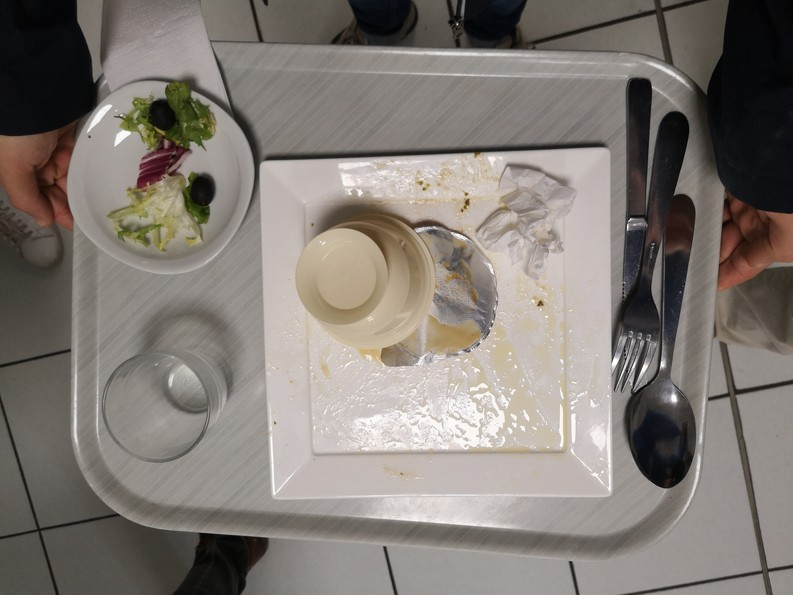cup: (81, 341, 240, 466)
cutlery: (619, 64, 717, 491)
orga: (124, 93, 216, 254)
trash: (295, 210, 442, 351), (70, 1, 239, 112), (487, 159, 588, 284), (405, 227, 496, 360)
